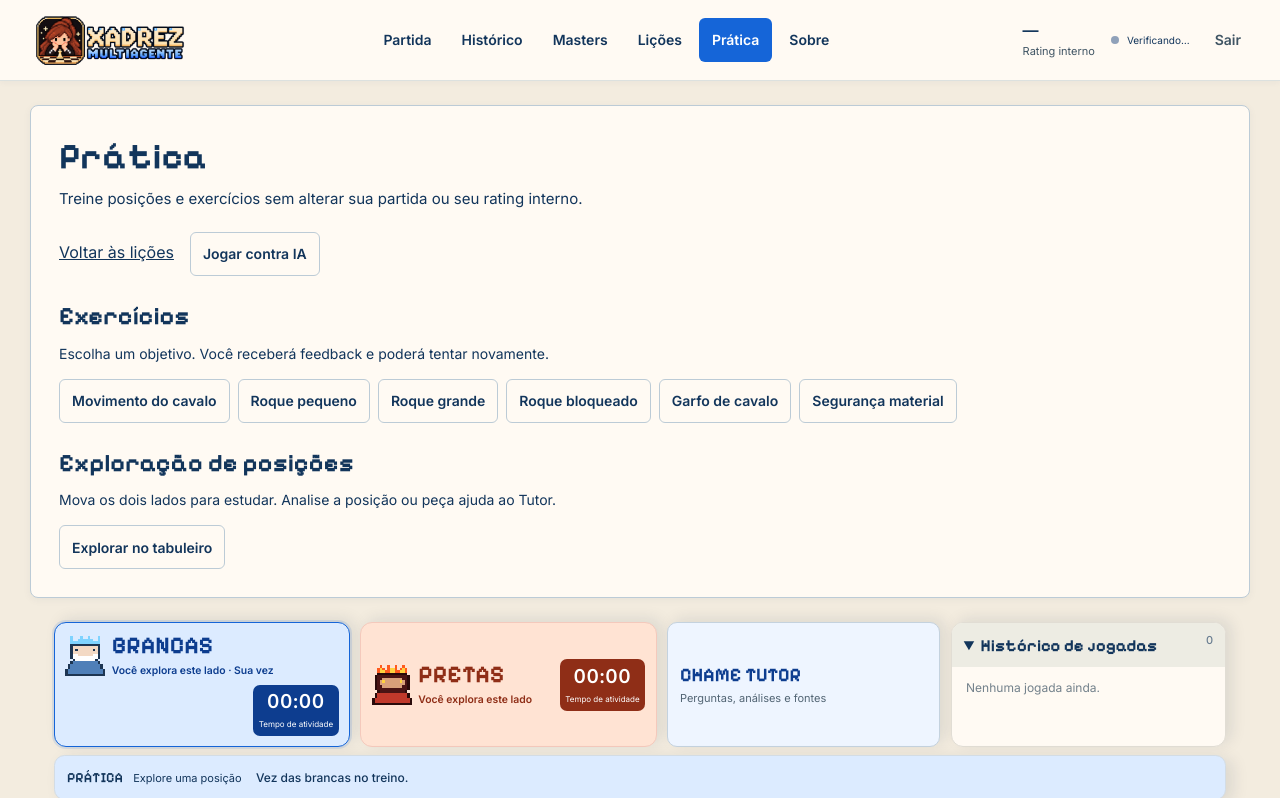
esconde o setup da IA quando a partida ativa já existe
Click the button "Jogar contra IA": point(255, 254) [190,232,320,276]
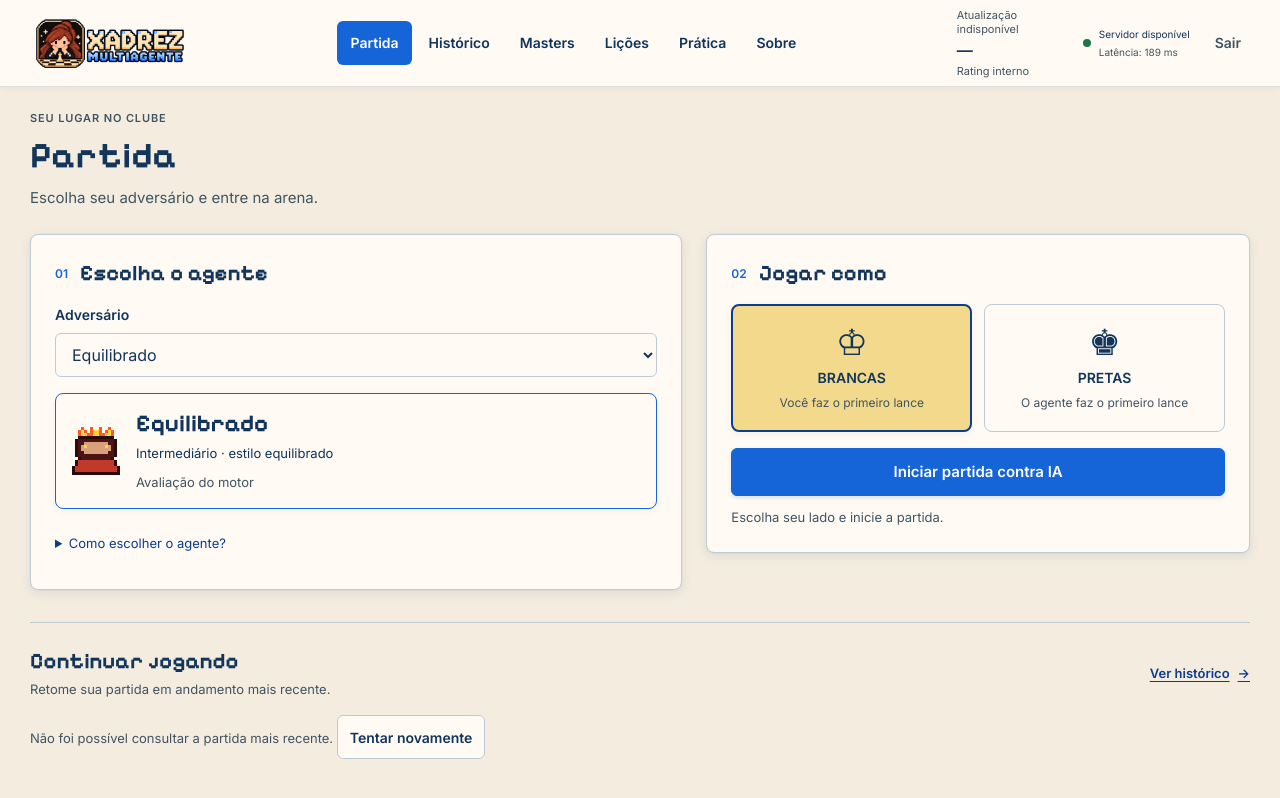
Expected: the button "Iniciar partida contra IA" is enabled
Click the button "Iniciar partida contra IA": point(978, 472) [731,448,1225,496]
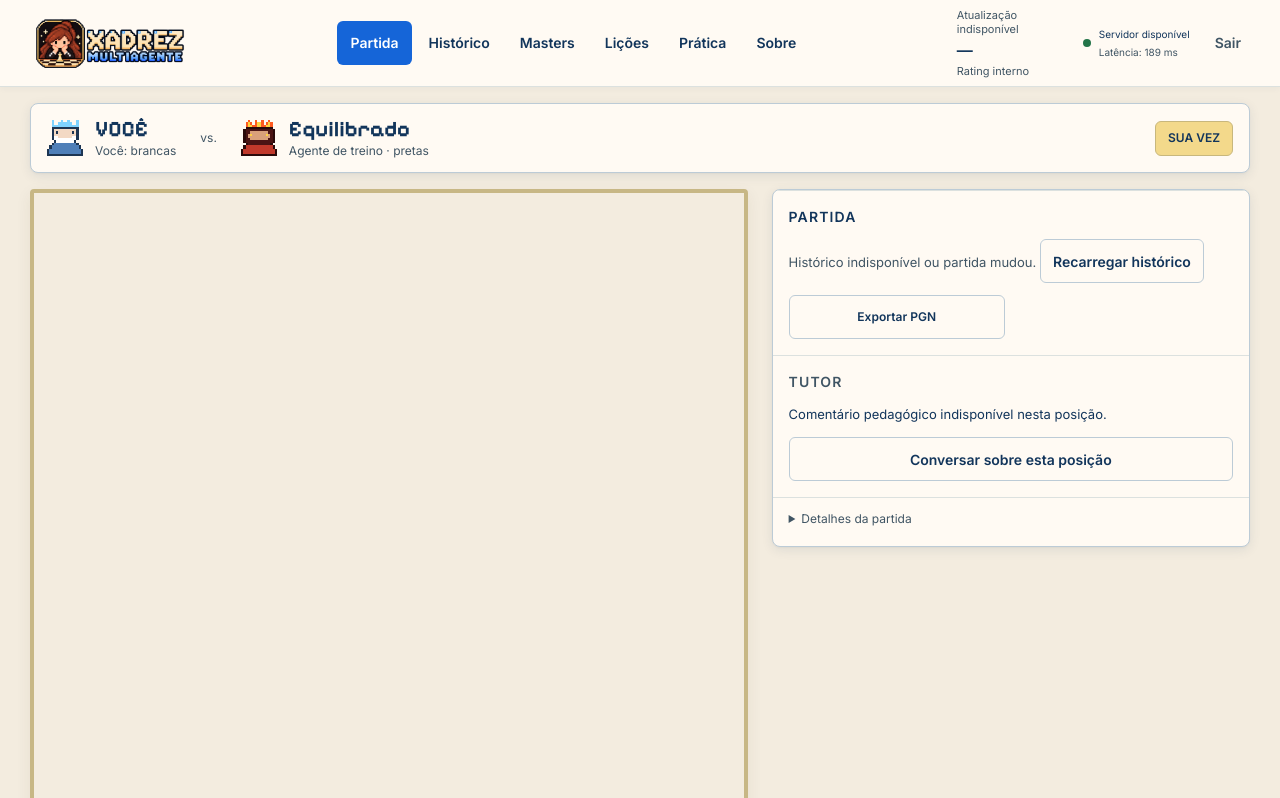
Expected: the button "Jogar contra IA" is not shown
Expected: the heading "Partida" is shown, [789,208,856,226]
Expected: the text labelled "seu lado" is gone
